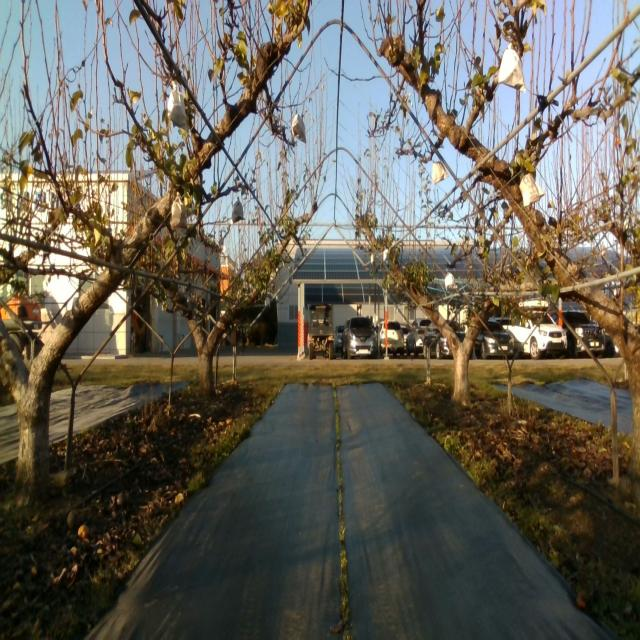pearbags: (498, 43, 526, 92), (519, 171, 545, 208), (167, 79, 187, 127), (171, 192, 188, 230), (432, 160, 449, 185), (291, 114, 306, 142), (232, 196, 246, 222), (444, 268, 458, 292)
